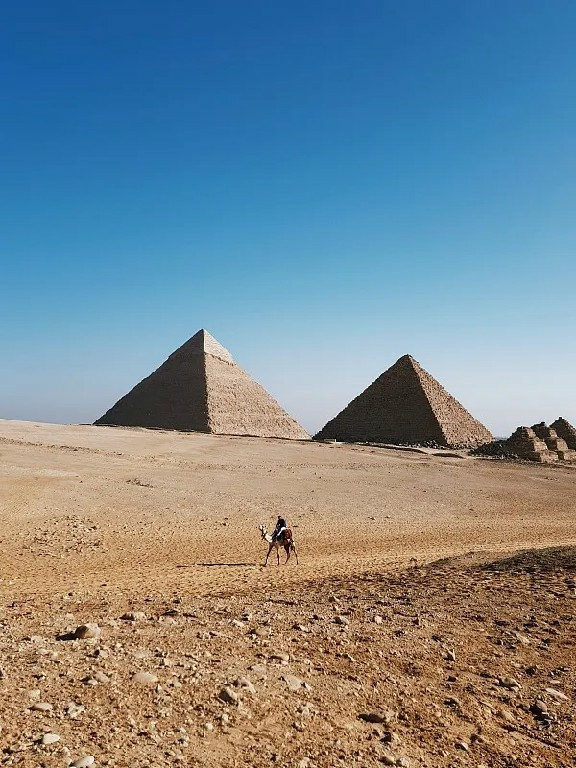Pyramid: (94, 330, 309, 438), (312, 355, 498, 447)
